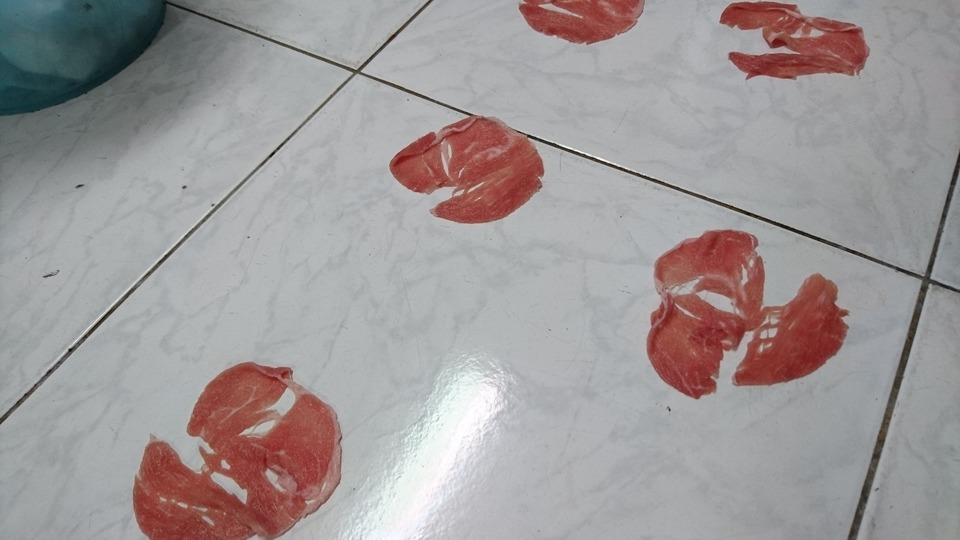restructured meat: (139, 363, 365, 540), (622, 229, 852, 395), (389, 85, 561, 222), (716, 8, 875, 95), (520, 4, 643, 43)
